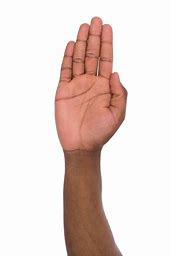palm: (53, 16, 129, 152)
